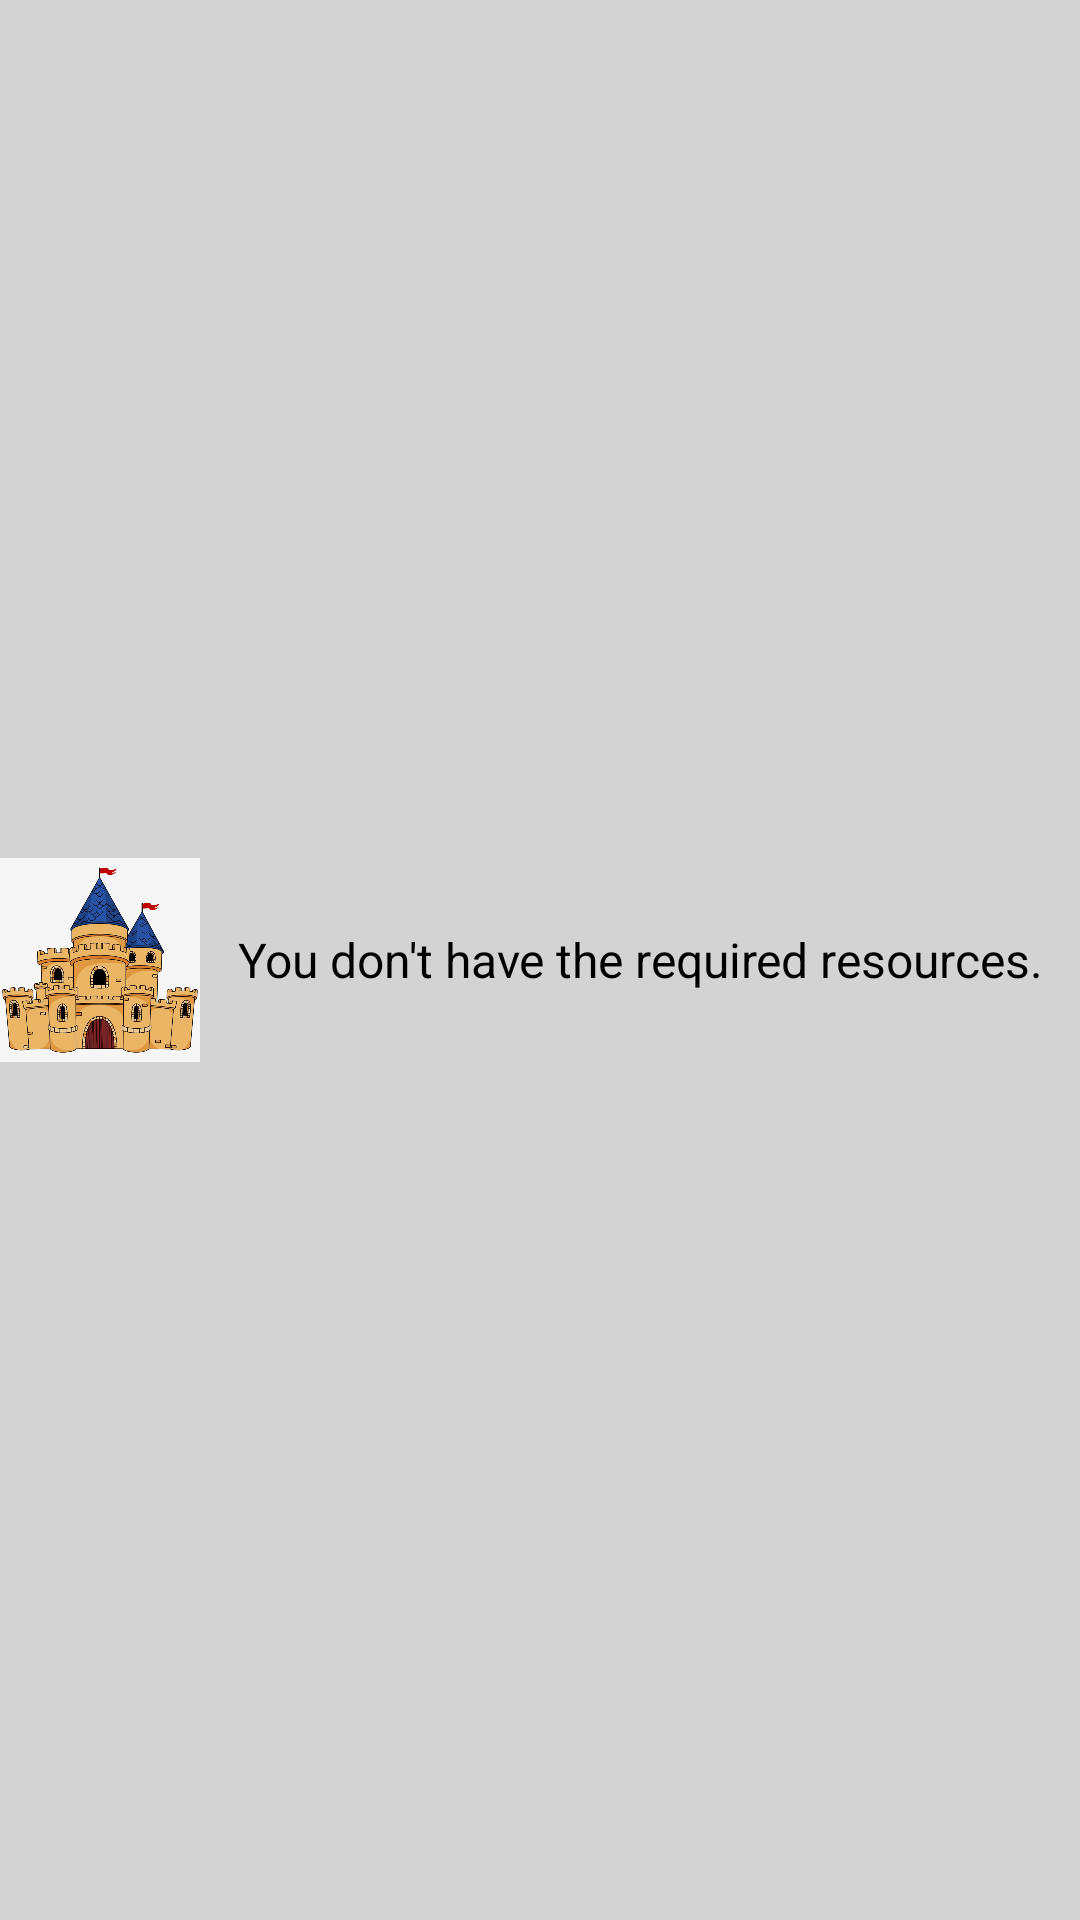

Named icons in this screenshot (1080×1920) and their bounding boxes, {"x1": x1, "y1": y1, "x2": x2, "y2": y2}:
castle: {"x1": 0, "y1": 858, "x2": 200, "y2": 1062}
